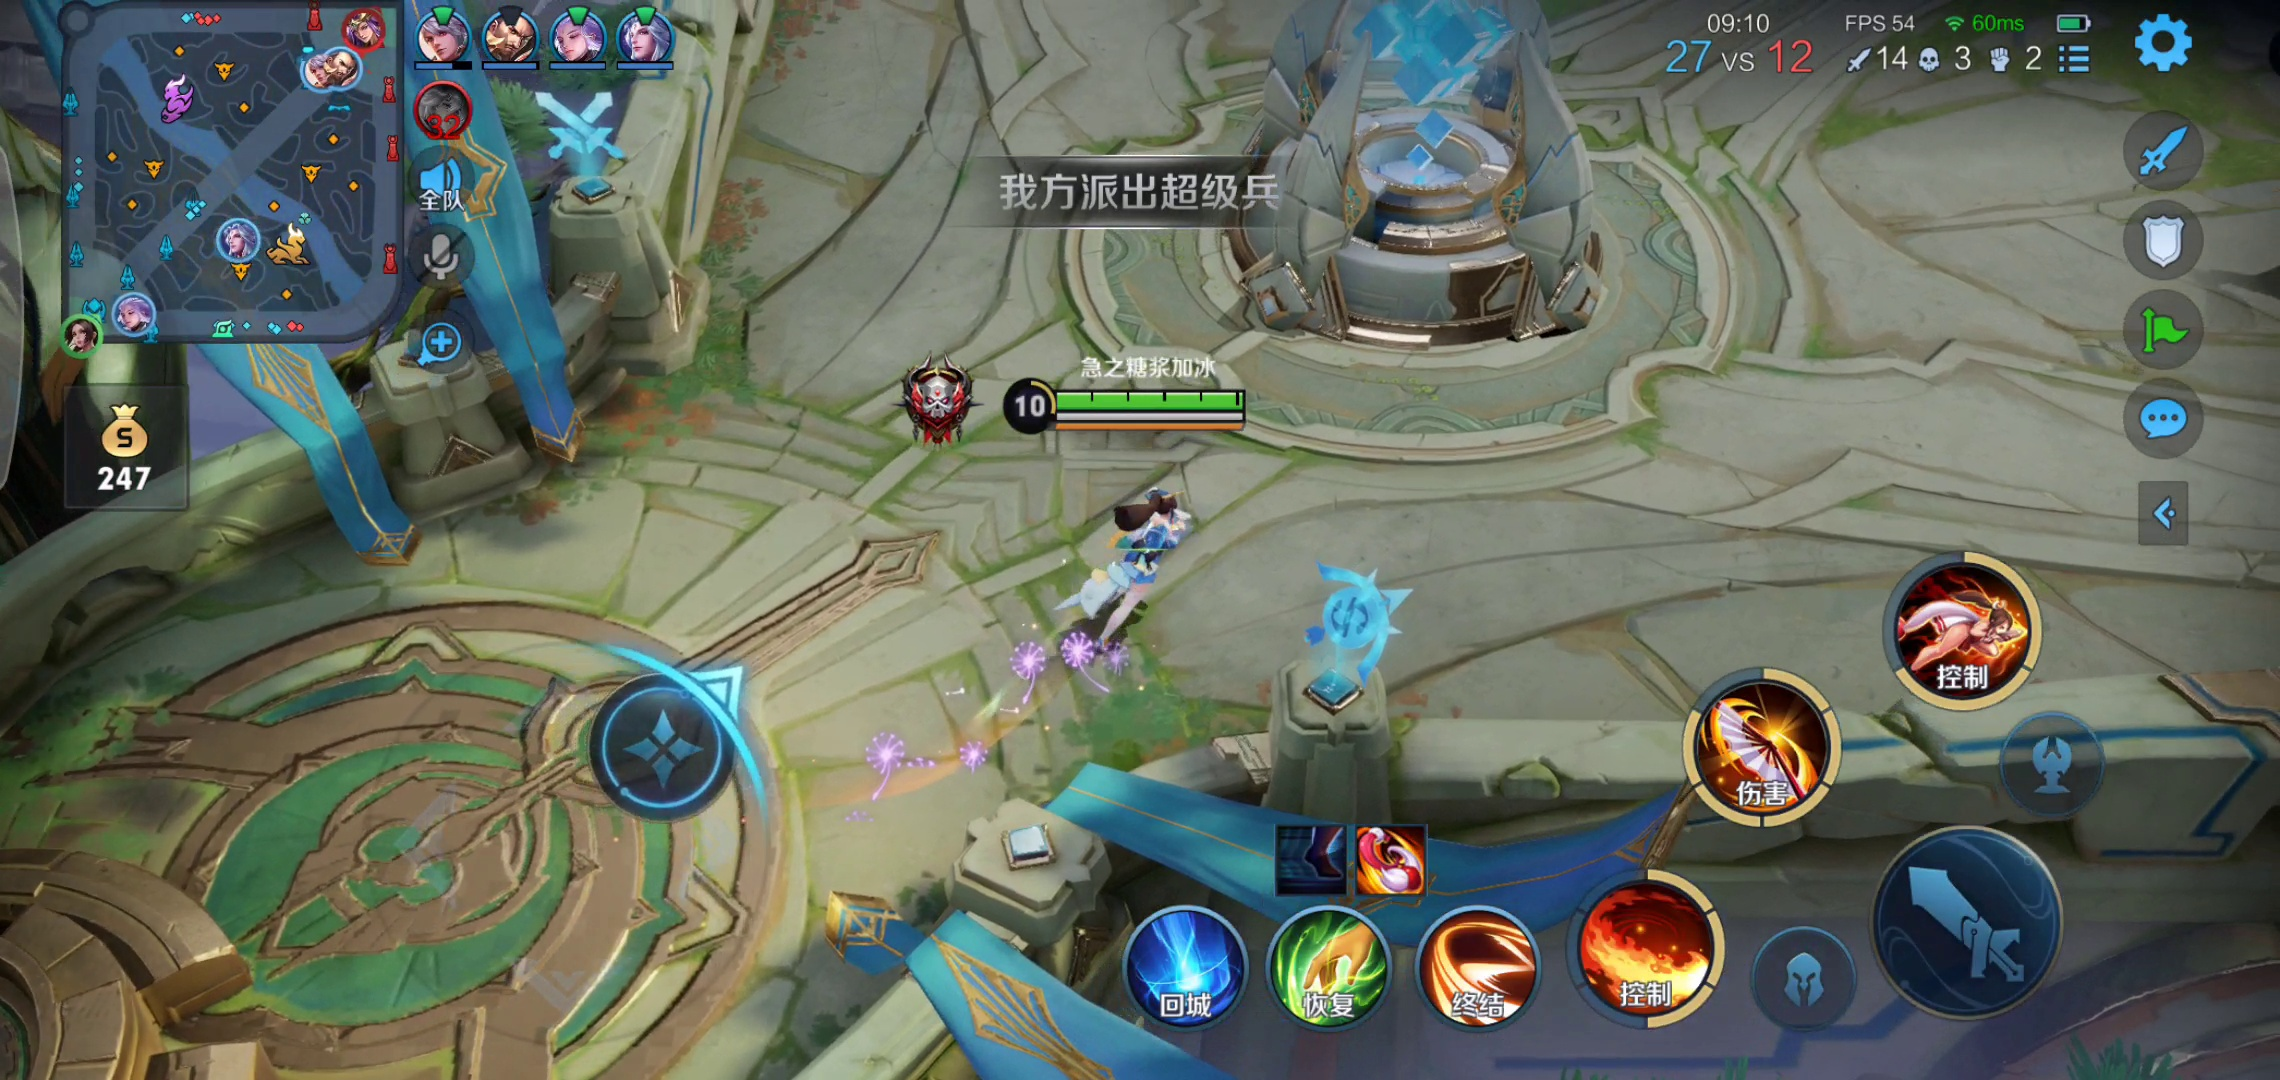crystal: (1210, 7, 1637, 342)
hero: (1044, 468, 1195, 658)
